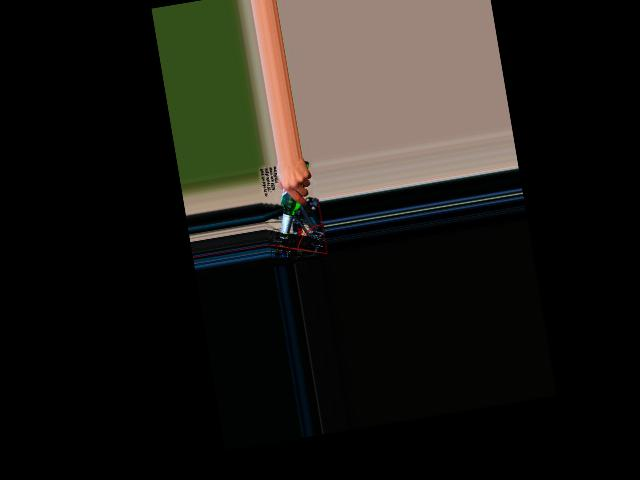beer: (268, 160, 321, 241)
